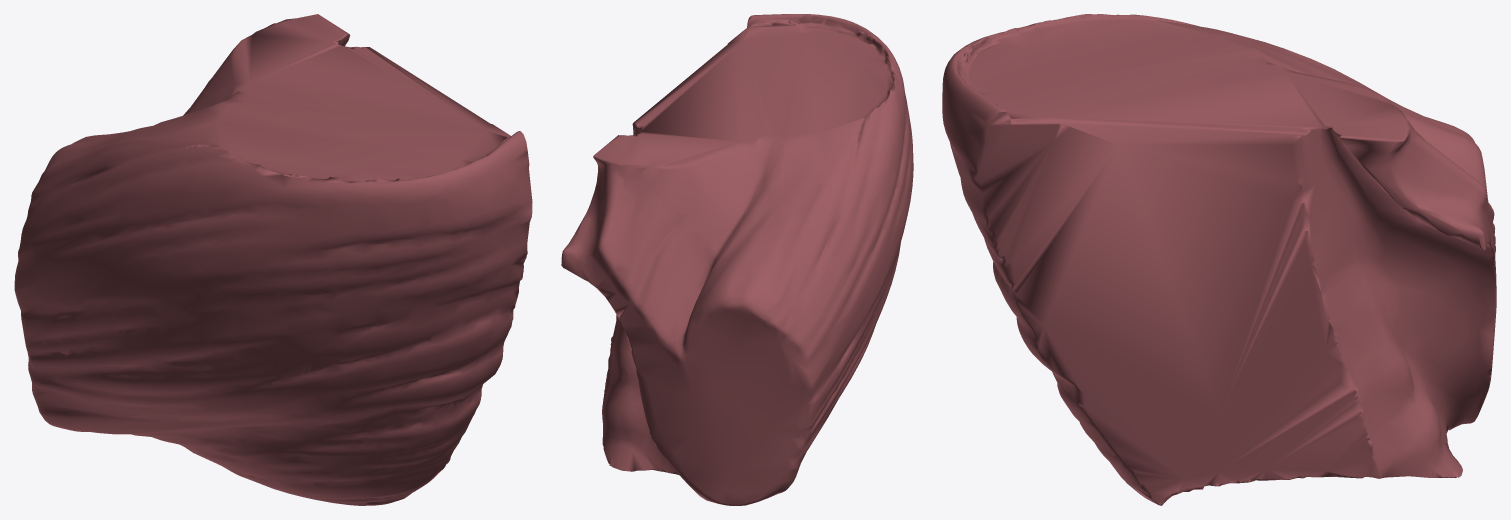
File: Pons.R.001.fbx
The picture shows the model from 3 angles, left to right: view 1: azimuth 30°, elevation 25°; view 2: azimuth 150°, elevation 25°; view 3: azimuth 270°, elevation 25°; orthographic projection. The views are drawn at different scales.
Parts seen in each view (by area): view 1: Pons.r.001; view 2: Pons.r.001; view 3: Pons.r.001.
Part boxes in pixels (bbox=[...]): Pons.r.001: bbox=[14, 14, 532, 505]; Pons.r.001: bbox=[561, 14, 913, 505]; Pons.r.001: bbox=[942, 14, 1496, 505].
Size of the model in its own units: 2.06 by 3.34 by 2.78.
